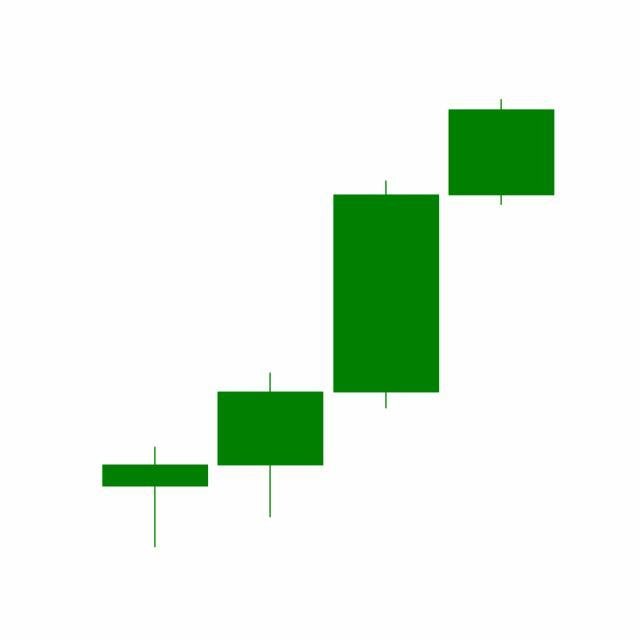Marubozu: (444, 98, 560, 207)
